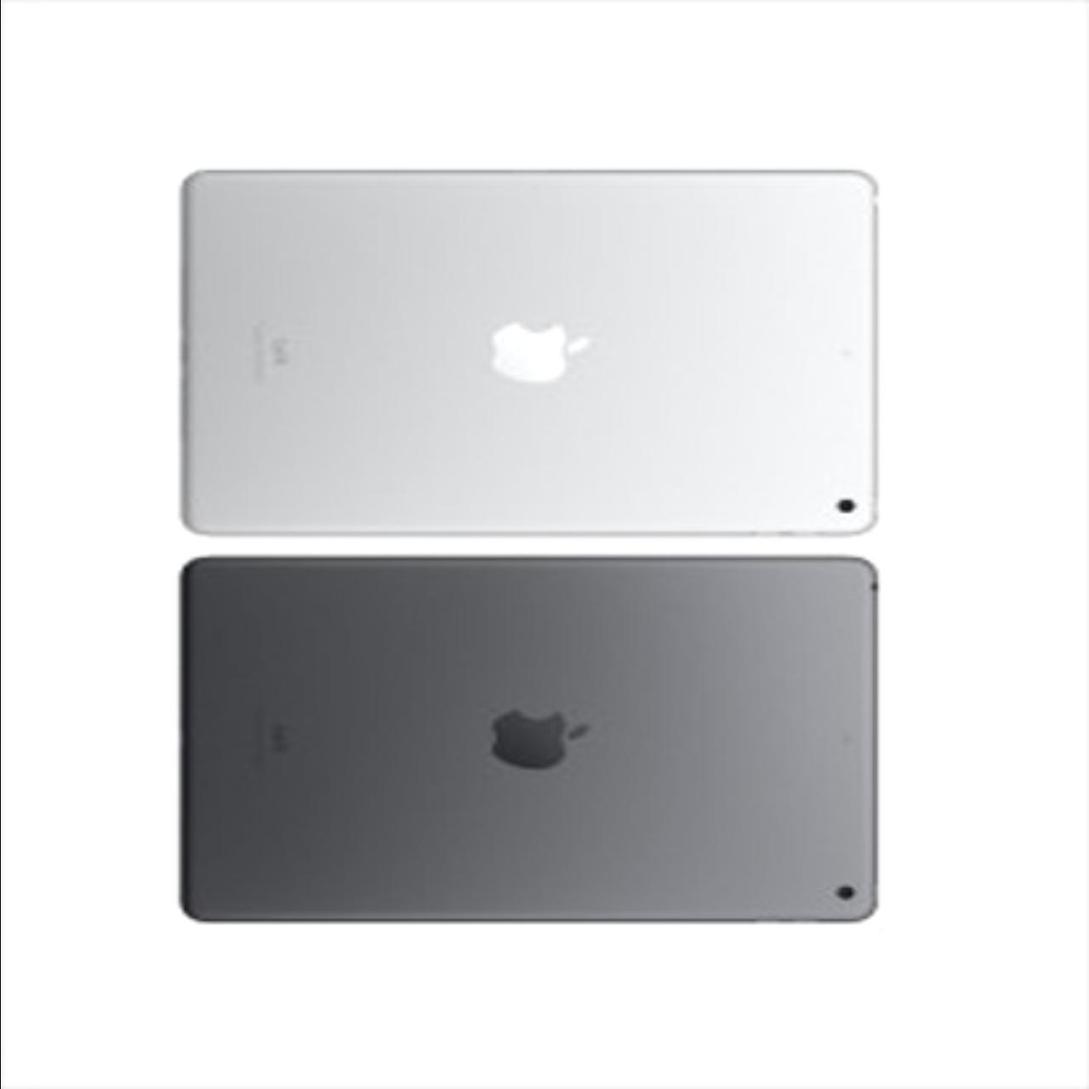Tablet_PC: (173, 160, 887, 560), (165, 544, 887, 929)
